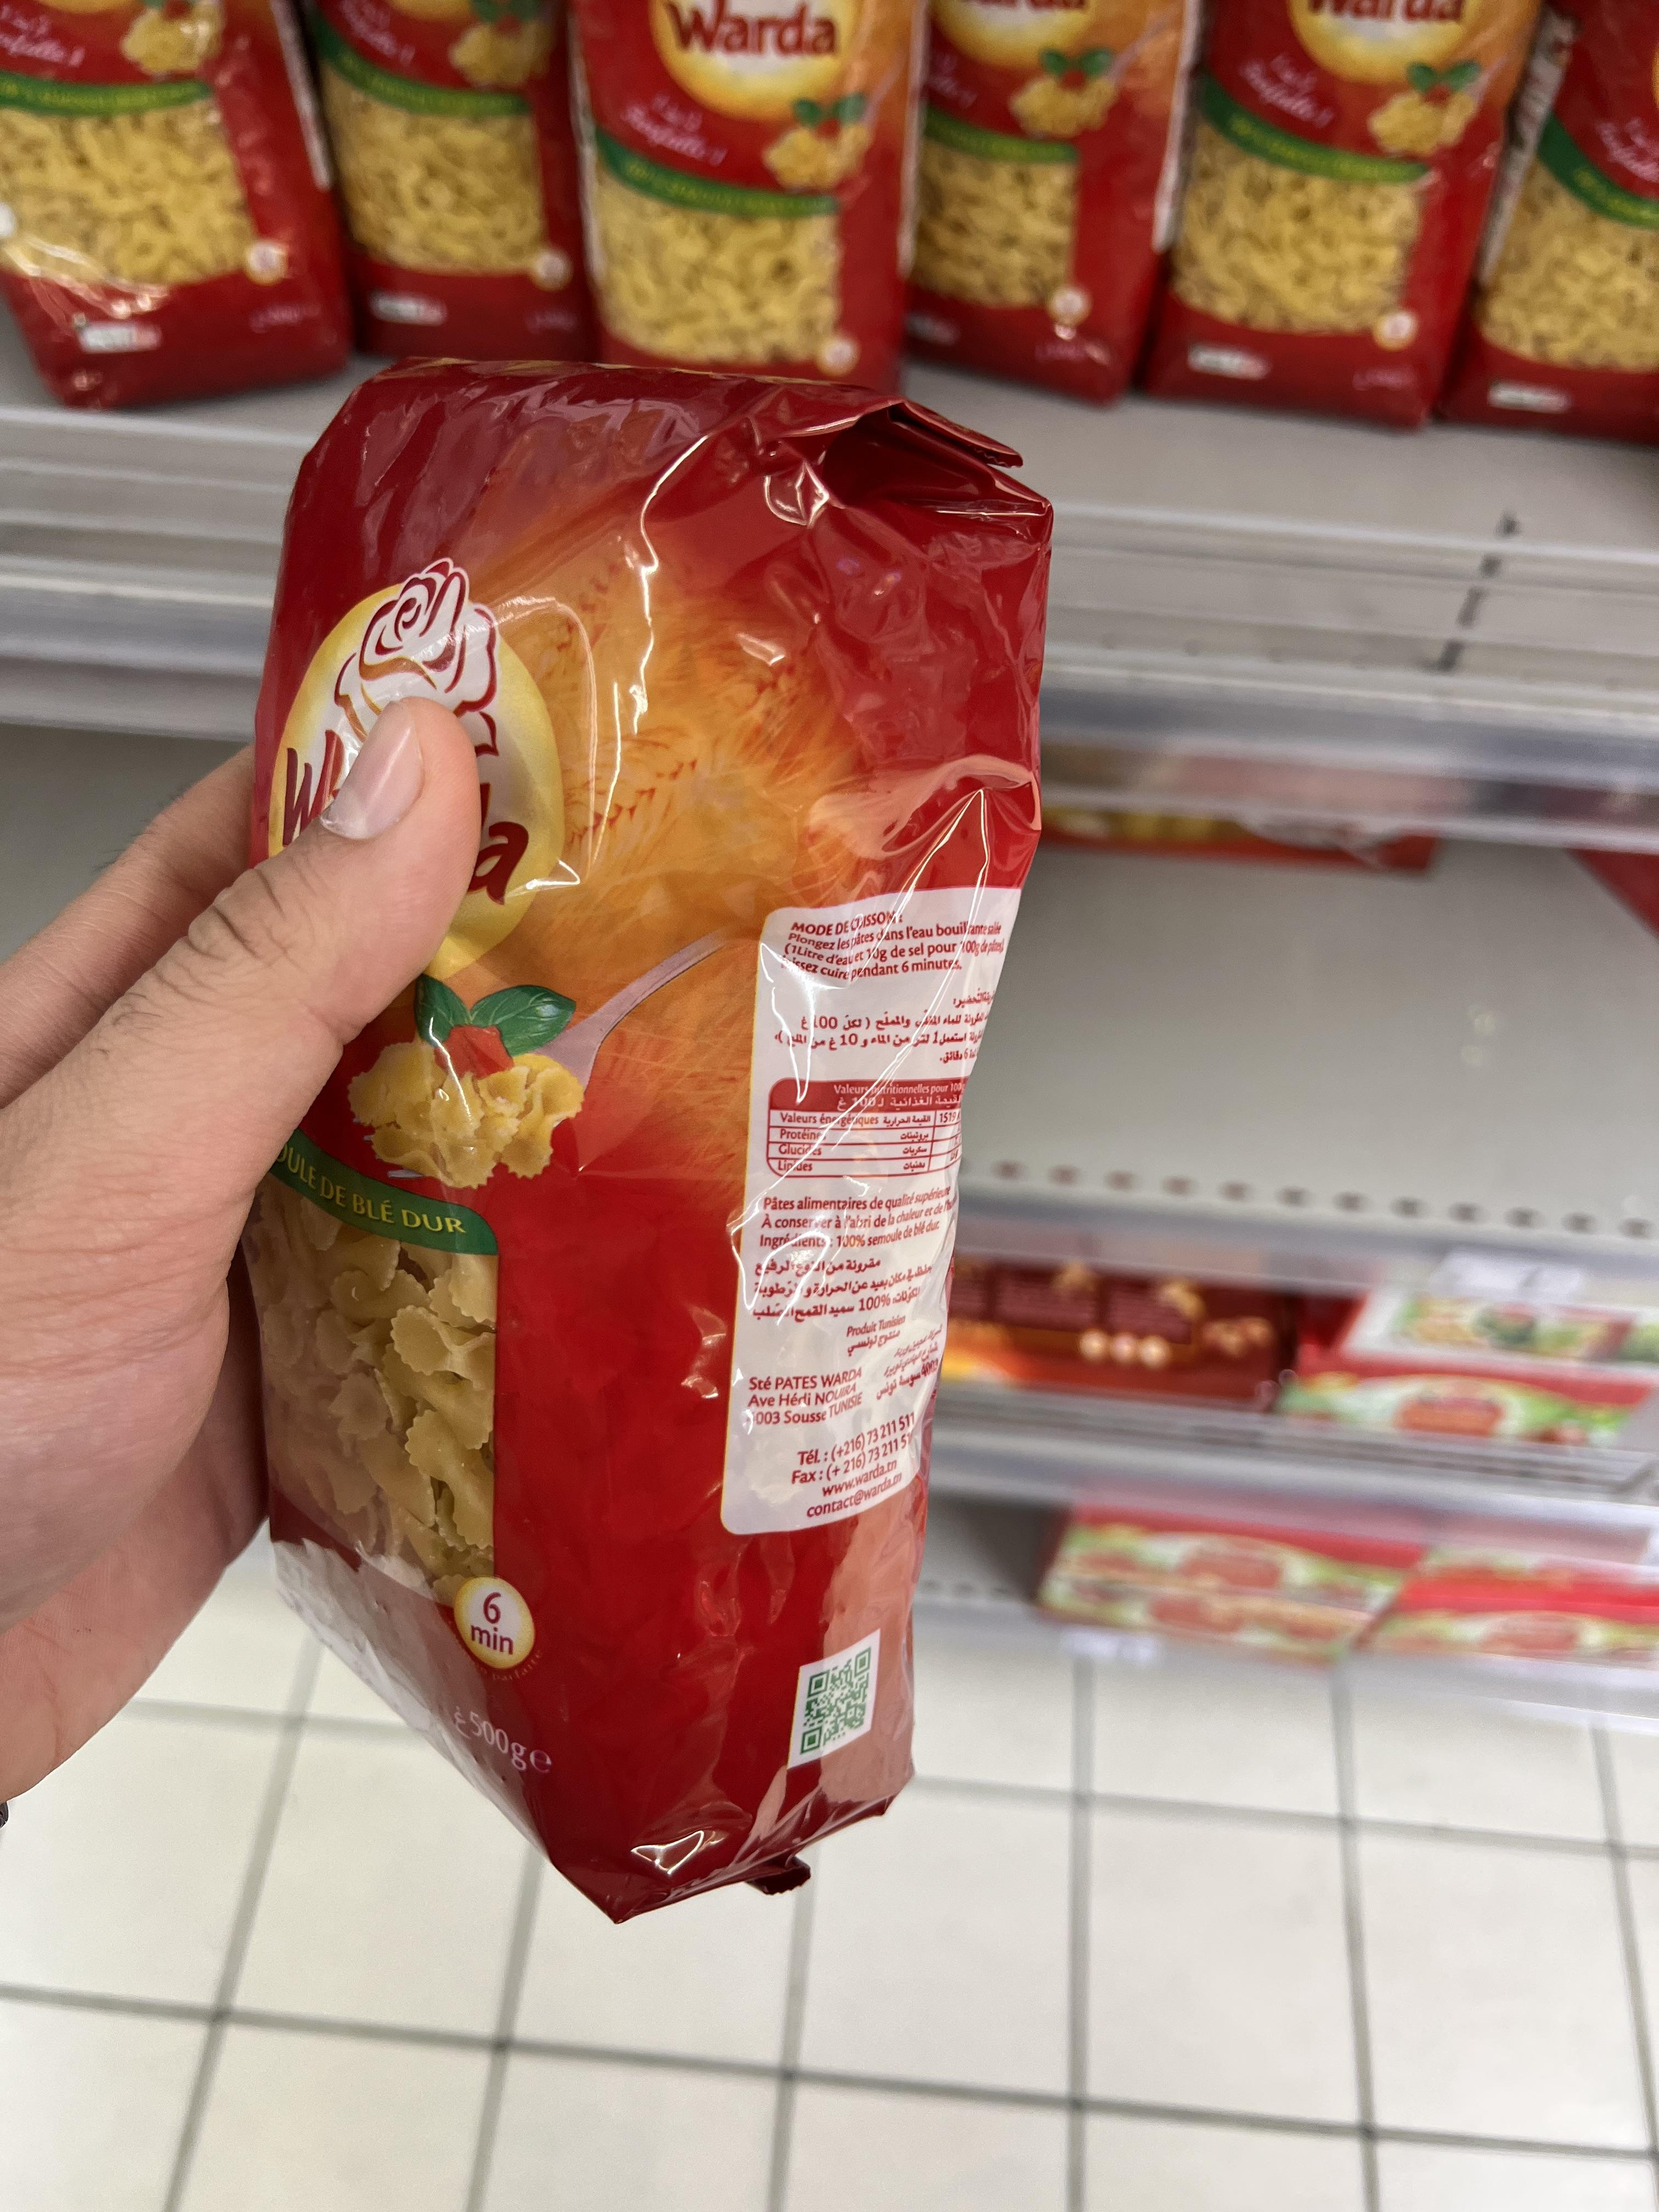Papillon: (160, 484, 791, 2212)
